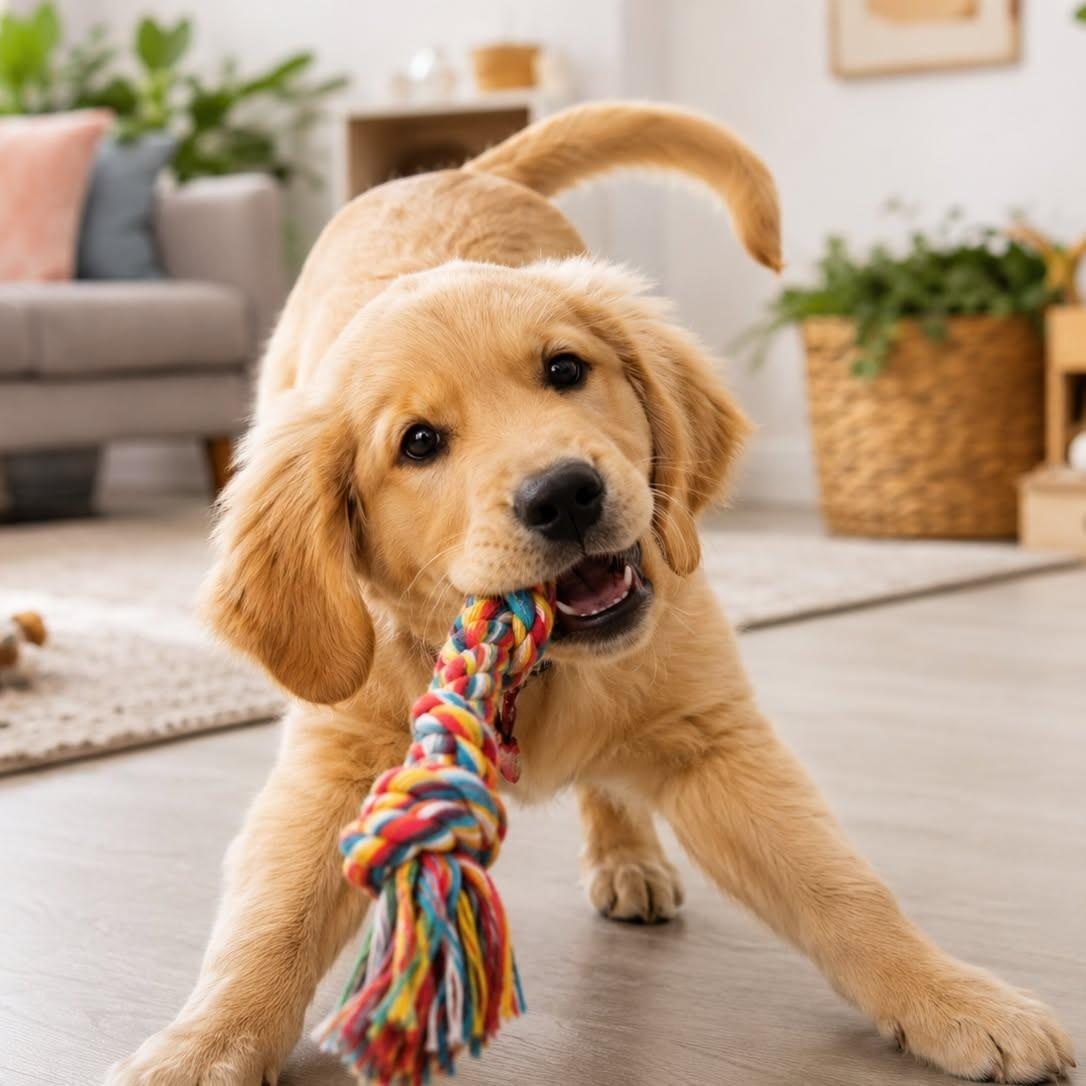puppy-dog: (98, 88, 1076, 1086)
